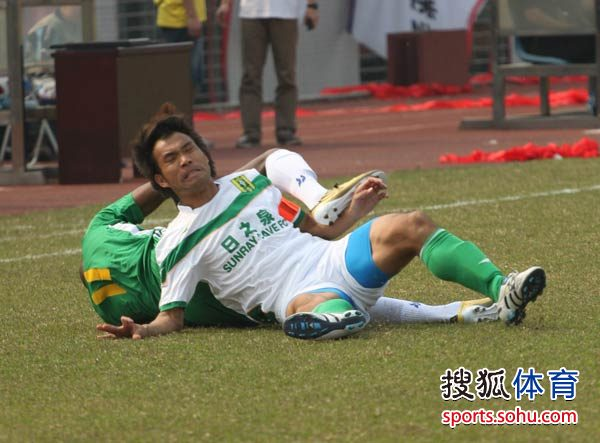fall: (91, 107, 557, 344)
